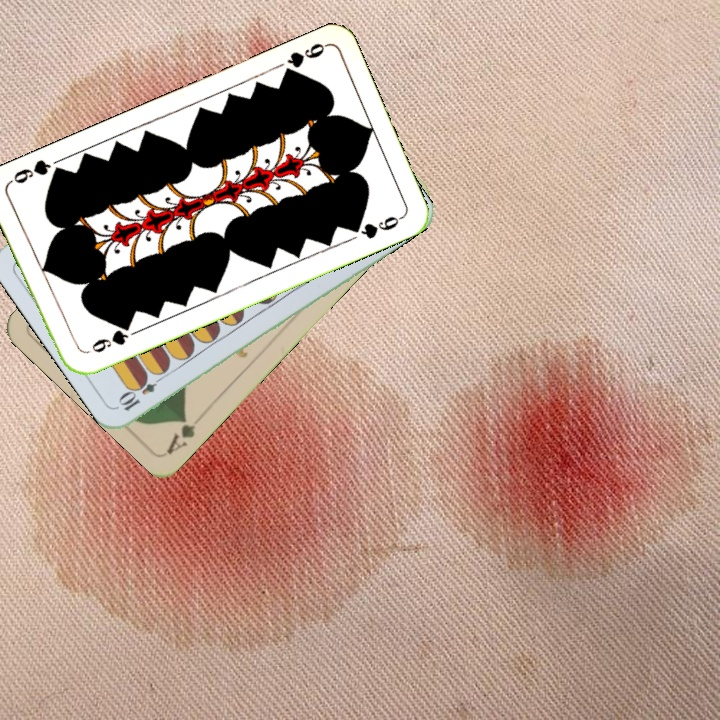E10: (115, 369, 168, 414)
G9: (278, 39, 330, 80), (87, 320, 134, 356)
GA: (163, 411, 199, 456)
